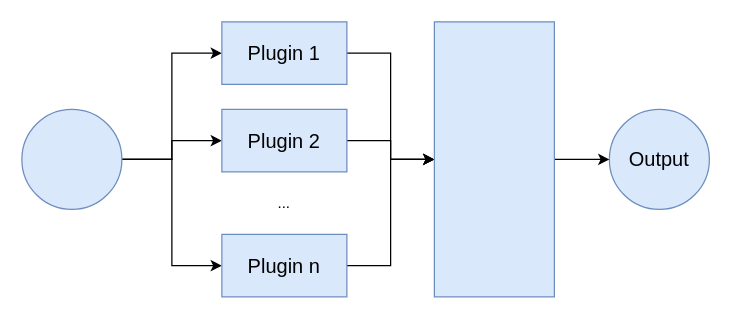
The diagram is 731 pixels wide and 319 high, and some of its shapes have lost their labels. The shapes that lost their labels are listed below. From the top down, each one's centre as x and y in pixels, then its label:
At (x=71, y=158): "Input".
At (x=493, y=159): "merge".
